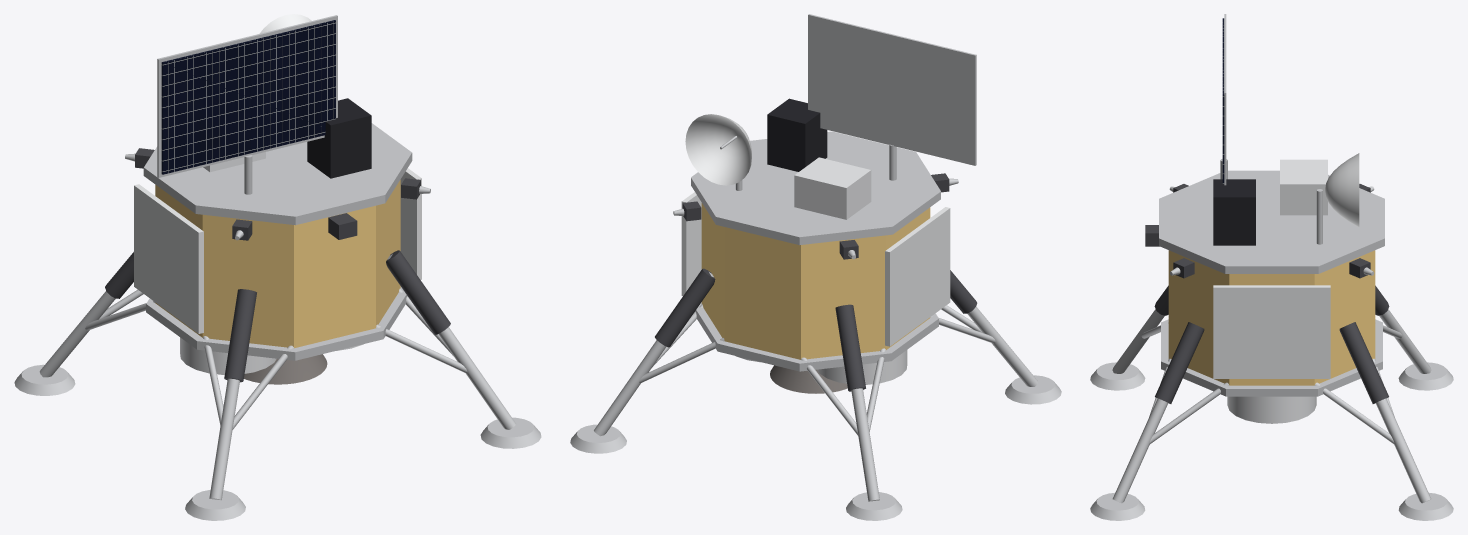
Rendered from clps_lander.glb.
The picture shows the model from 3 angles, left to right: view 1: azimuth 30°, elevation 25°; view 2: azimuth 150°, elevation 25°; view 3: azimuth 270°, elevation 25°; orthographic projection. The views are drawn at different scales.
Parts seen in each view (by area): view 1: Body, SolarCells, Deck, Radiator_B, Payload_2, DeckLower, SolarFrame, LegDamper_4, LegDamper_3, Radiator_A, LegMain_3, LegMain_4 (+10 smaller); view 2: Body, SolarFrame, Deck, Radiator_B, Payload_1, AntennaDish, Payload_2, DeckLower, LegDamper_1, LegDamper_2, Radiator_A, LegMain_2 (+10 smaller); view 3: Deck, Radiator_A, Body, DeckLower, Payload_2, Payload_1, Tank_0, AntennaDish, LegDamper_1, LegDamper_4, LegMain_1, LegMain_4 (+10 smaller).
Part boxes in pixels (left/top/right/bottom): Body: left=155, top=180, right=400, bottom=348; SolarCells: left=161, top=20, right=335, bottom=174; Deck: left=143, top=123, right=412, bottom=225; Radiator_B: left=134, top=184, right=203, bottom=333; Payload_2: left=307, top=98, right=371, bottom=178; DeckLower: left=146, top=286, right=407, bottom=360; SolarFrame: left=157, top=15, right=337, bottom=177; LegDamper_4: left=386, top=250, right=450, bottom=334; LegDamper_3: left=224, top=289, right=256, bottom=382; Radiator_A: left=400, top=168, right=421, bottom=279; LegMain_3: left=209, top=378, right=239, bottom=500; LegMain_4: left=387, top=254, right=515, bottom=429; Body: left=701, top=203, right=930, bottom=359; SolarFrame: left=808, top=14, right=976, bottom=165; Deck: left=691, top=131, right=940, bottom=245; Radiator_B: left=885, top=207, right=950, bottom=346; Payload_1: left=794, top=157, right=871, bottom=219; AntennaDish: left=685, top=114, right=751, bottom=185; Payload_2: left=767, top=98, right=827, bottom=171; DeckLower: left=695, top=302, right=938, bottom=371; LegDamper_1: left=655, top=268, right=715, bottom=347; LegDamper_2: left=835, top=304, right=865, bottom=391; Radiator_A: left=681, top=192, right=701, bottom=295; LegMain_2: left=851, top=388, right=879, bottom=501; Deck: left=1159, top=170, right=1384, bottom=273; Radiator_A: left=1213, top=285, right=1330, bottom=378; Body: left=1168, top=250, right=1375, bottom=385; DeckLower: left=1161, top=319, right=1382, bottom=396; Payload_2: left=1213, top=179, right=1255, bottom=245; Payload_1: left=1280, top=159, right=1327, bottom=215; Tank_0: left=1227, top=396, right=1316, bottom=423; AntennaDish: left=1325, top=153, right=1359, bottom=226; LegDamper_1: left=1339, top=322, right=1388, bottom=403; LegDamper_4: left=1155, top=322, right=1204, bottom=403; LegMain_1: left=1375, top=398, right=1431, bottom=503; LegMain_4: left=1112, top=398, right=1168, bottom=503.
Size of the model in its own units: 3.42 by 3.79 by 3.42.
Materials: 8 (1 with a texture image).
